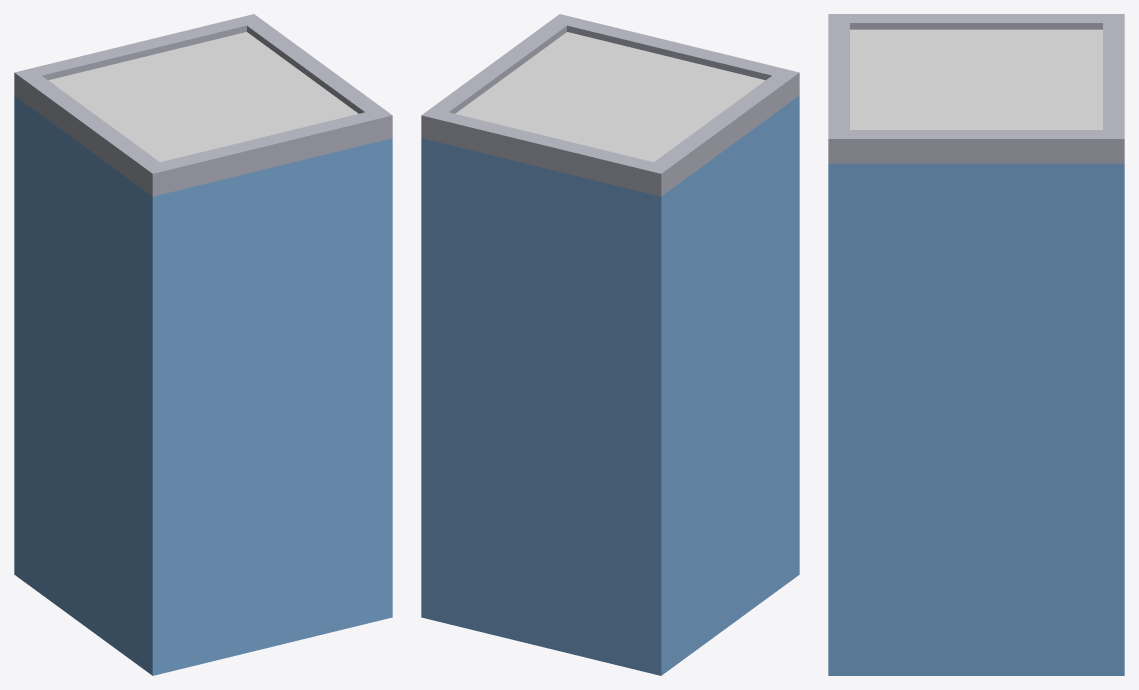
The model's file is SM_Building_20x40.fbx.
3 renders of one model, left to right at view 1: azimuth 30°, elevation 25°; view 2: azimuth 150°, elevation 25°; view 3: azimuth 270°, elevation 25°, orthographic. The views are drawn at different scales.
Visible parts, largest first — view 1: Building_20x40; view 2: Building_20x40; view 3: Building_20x40.
Boxes of the visible parts, bbox=[...] form: Building_20x40: bbox=[14, 14, 392, 675]; Building_20x40: bbox=[421, 14, 799, 675]; Building_20x40: bbox=[828, 14, 1124, 675].
Bounding box in the file's own units: 2000 × 4000 × 2000.
